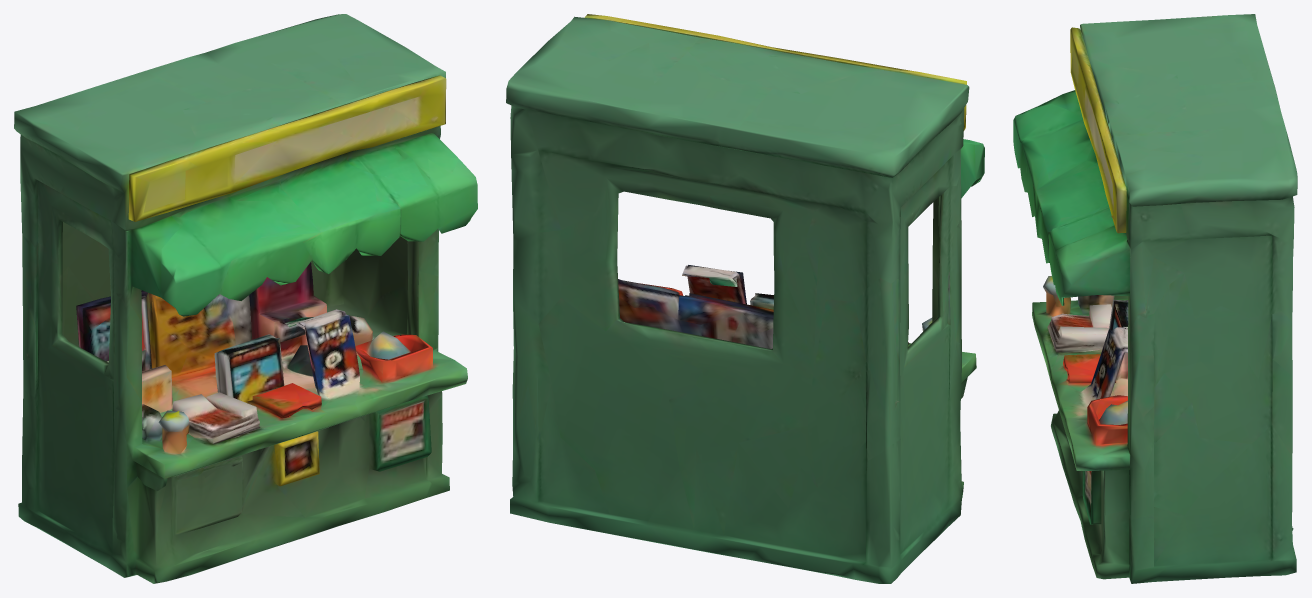
Rendered from banca.glb.
3 renders of one model, left to right at view 1: azimuth 30°, elevation 25°; view 2: azimuth 150°, elevation 25°; view 3: azimuth 270°, elevation 25°, orthographic. The views are drawn at different scales.
Parts seen in each view (by area): view 1: tripo_node_5b2e8ce2-1635-46da-95fd-d682468805e0; view 2: tripo_node_5b2e8ce2-1635-46da-95fd-d682468805e0; view 3: tripo_node_5b2e8ce2-1635-46da-95fd-d682468805e0.
Boxes of the visible parts, <box> form: tripo_node_5b2e8ce2-1635-46da-95fd-d682468805e0: <box>14,14,477,583</box>; tripo_node_5b2e8ce2-1635-46da-95fd-d682468805e0: <box>506,14,984,583</box>; tripo_node_5b2e8ce2-1635-46da-95fd-d682468805e0: <box>1013,14,1297,583</box>.
Size of the model in its own units: 0.9399 by 1 by 0.6455.
1 material, 1 textured.
